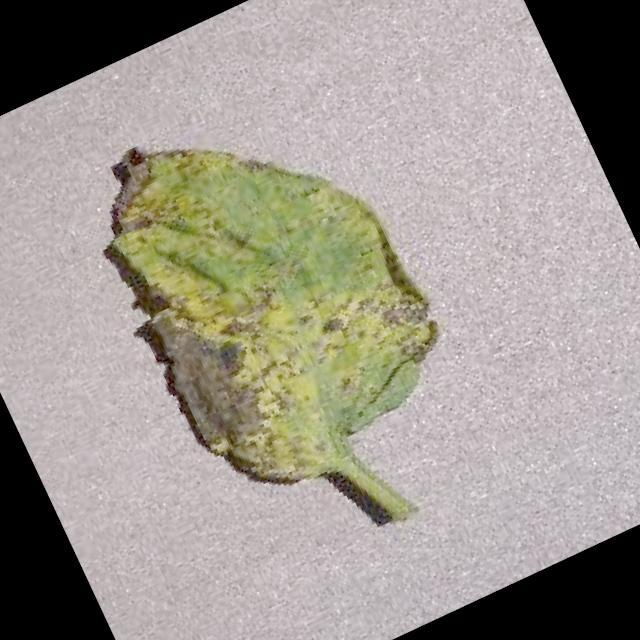Tomato Septoria spot leaf: (69, 63, 476, 518)
